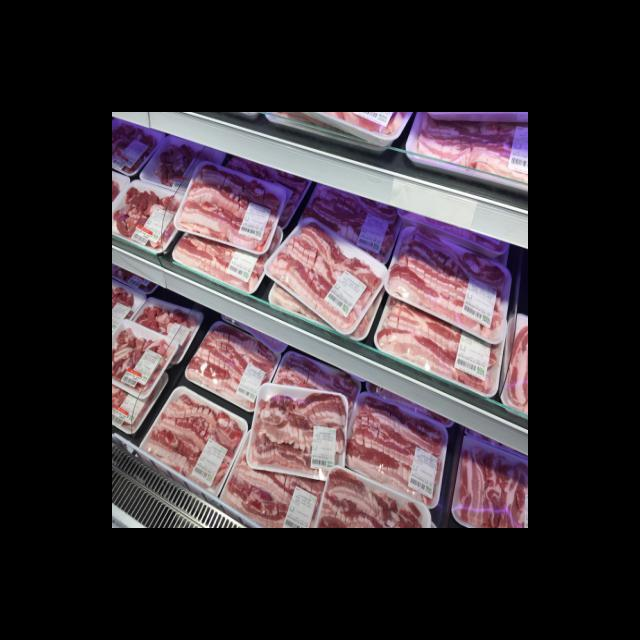pork: (397, 222, 500, 392), (182, 158, 282, 290), (276, 225, 374, 335), (354, 404, 444, 496), (197, 314, 272, 396), (162, 398, 234, 481), (260, 406, 348, 468), (464, 444, 528, 528)
